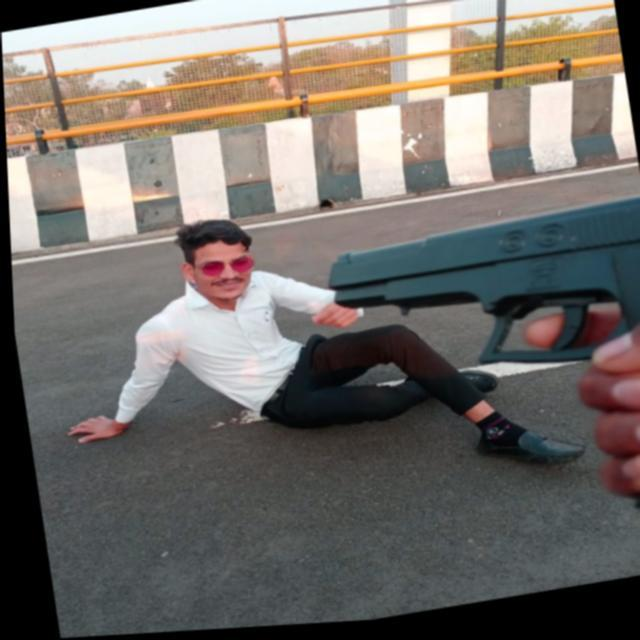weapon: (313, 199, 640, 584)
